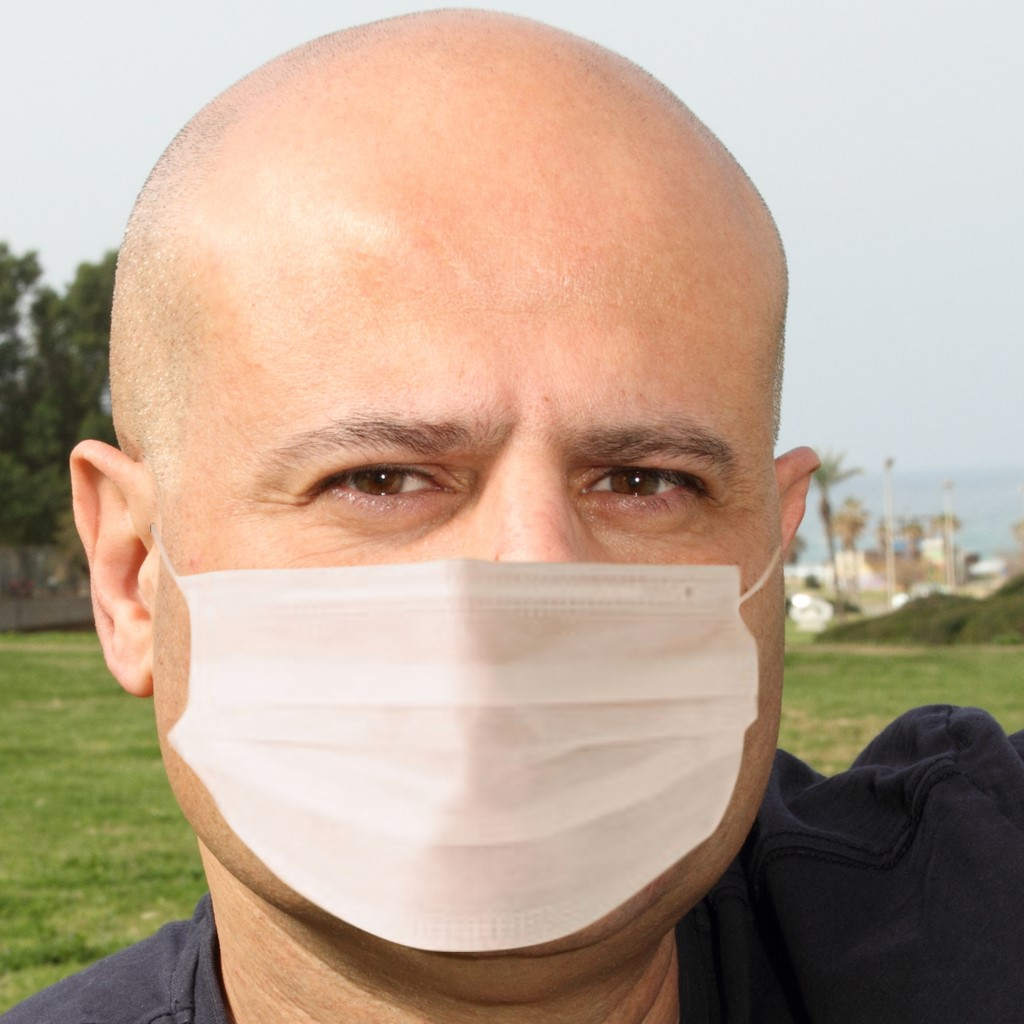con_mascara: (113, 24, 778, 955)
